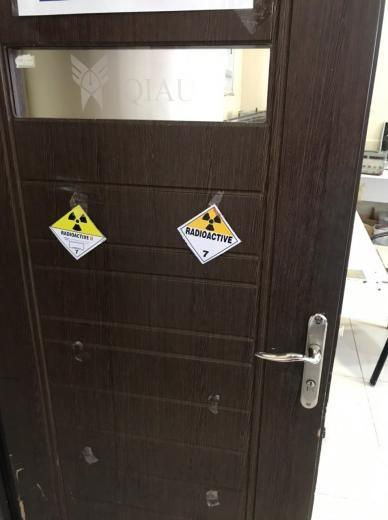radioactive: (177, 204, 242, 265), (48, 205, 106, 263)
